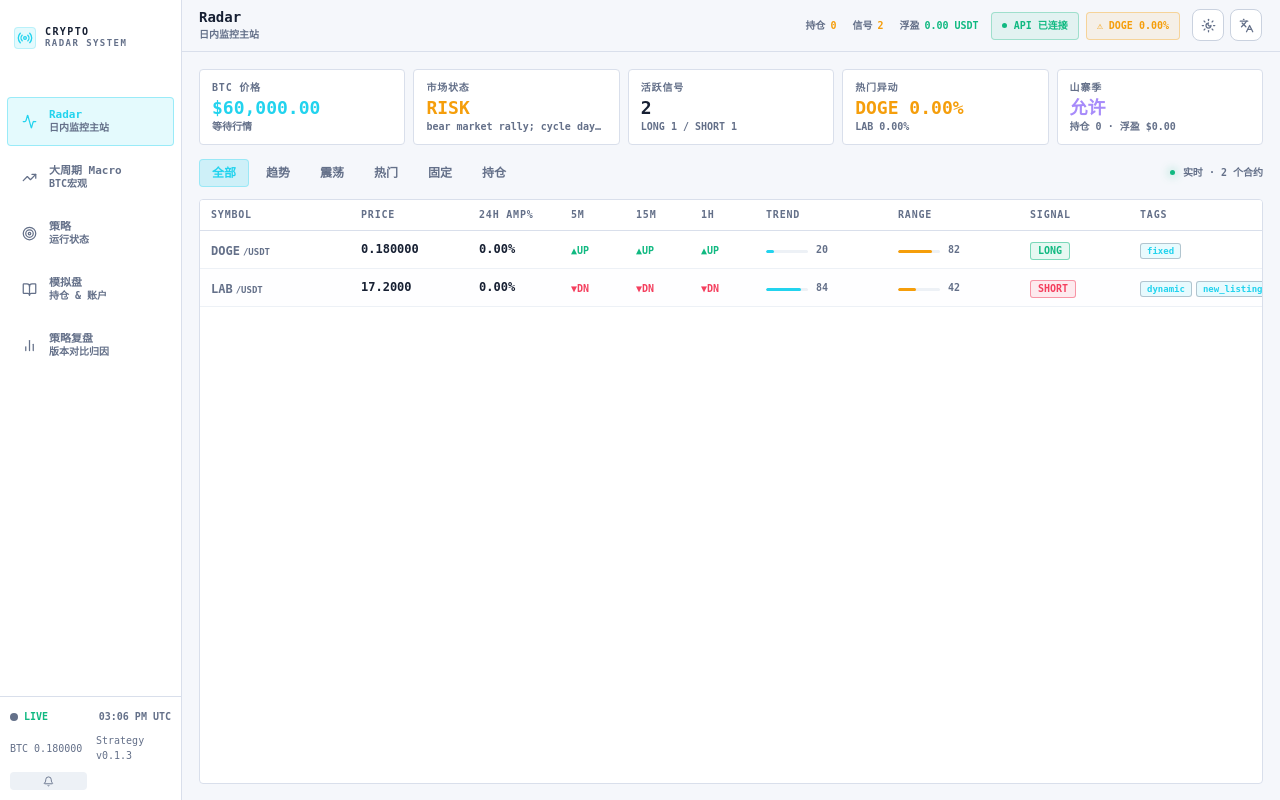
Test case: App › anchors a one-snapshot account equity curve at the initial balance
This screenshot has width=1280, height=800.
Click the button "策略复盘 版本对比归因" at (90,346), box [7,321,174,370]
(page scrolled)
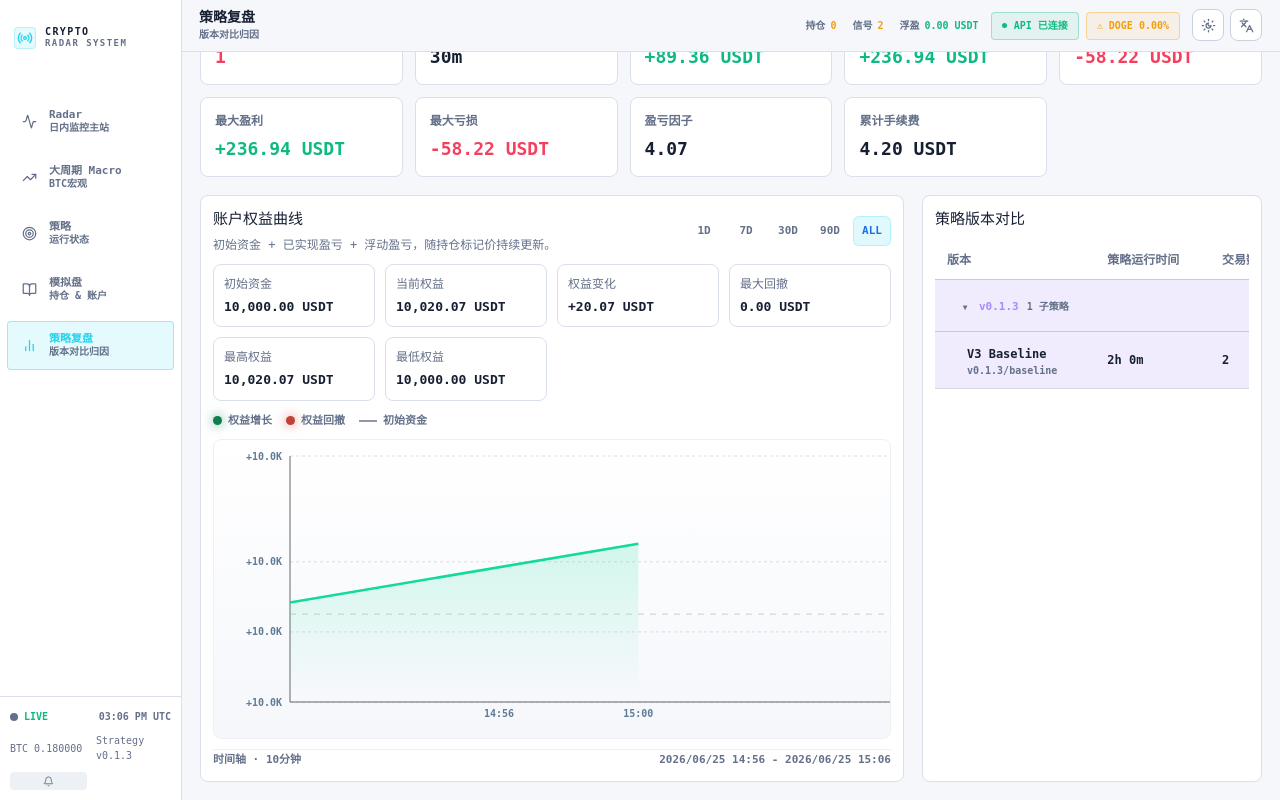
Expected: the element with test id "review-equity-curve" shows "账户权益曲线", [213,210,303,228]
Expected: the element with test id "review-equity-curve" shows "初始资金", [224,276,272,290]
Expected: the element with test id "review-equity-curve" shows "10,000.00 USDT", [224,298,334,314]
